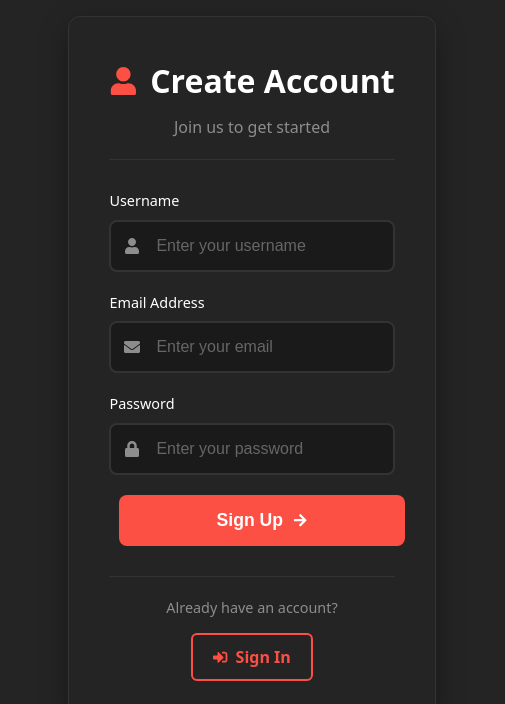
Test: Auth Components › RegisterPage › should handle registration failure
Type "existinguser" into the field with placeholder "Enter your username" at (252, 246), box [109,220,395,272]
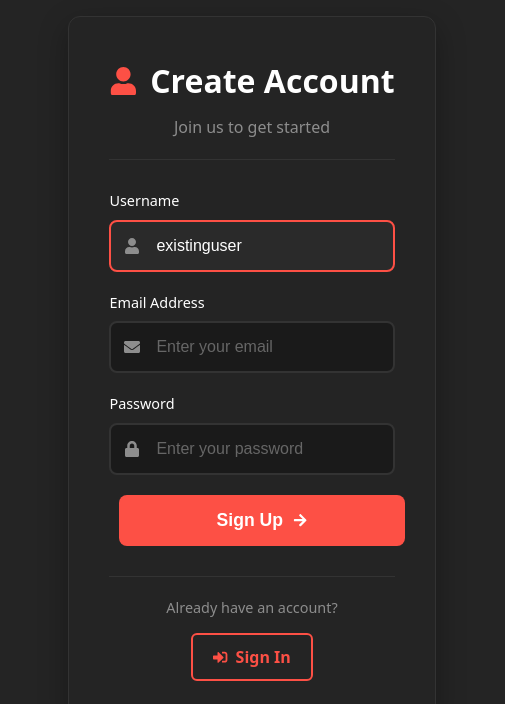
Type "existing@example.com" into the field with placeholder "Enter your email" at (252, 347), box [109,321,395,373]
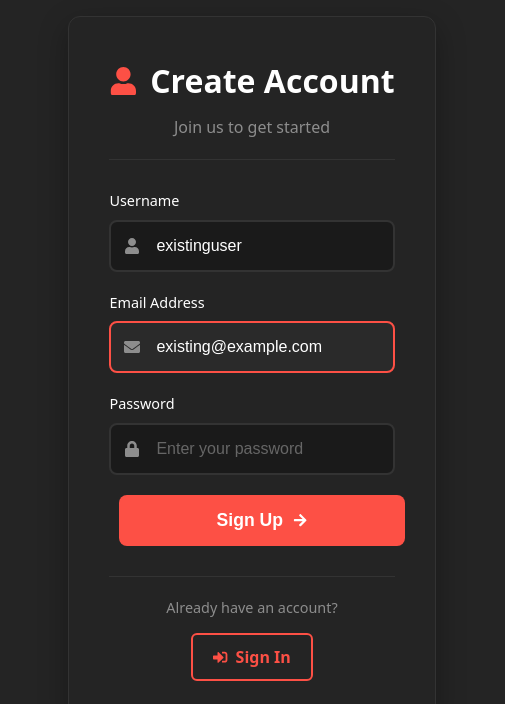
Type "password123" into the password field with placeholder "Enter your password" at (252, 449), box [109,423,395,475]
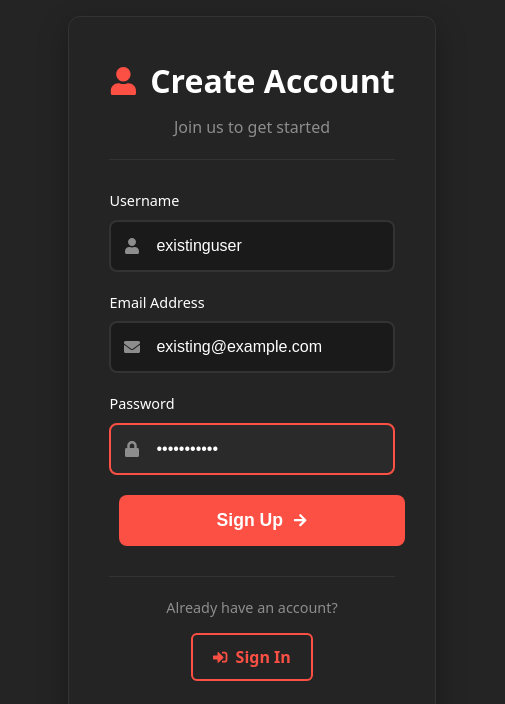
Click the button "Sign Up" at (262, 520), box [119,495,405,546]
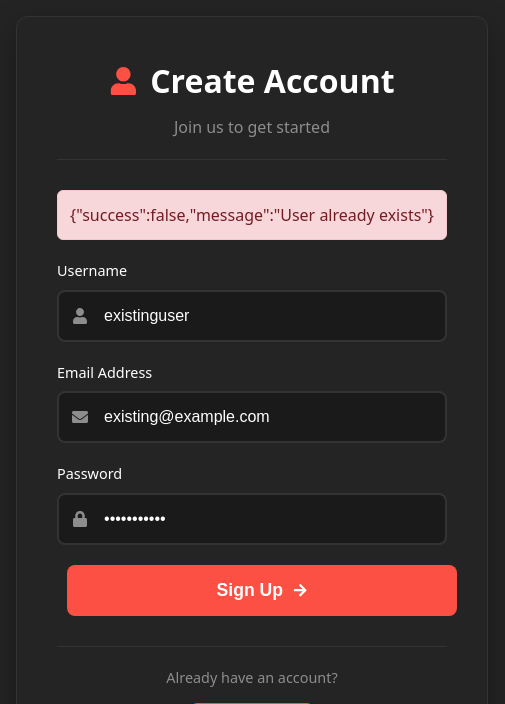
Expected: the text "{\"success\":false,\"message\":\"User already exists\"}" is shown, [57,190,447,240]
